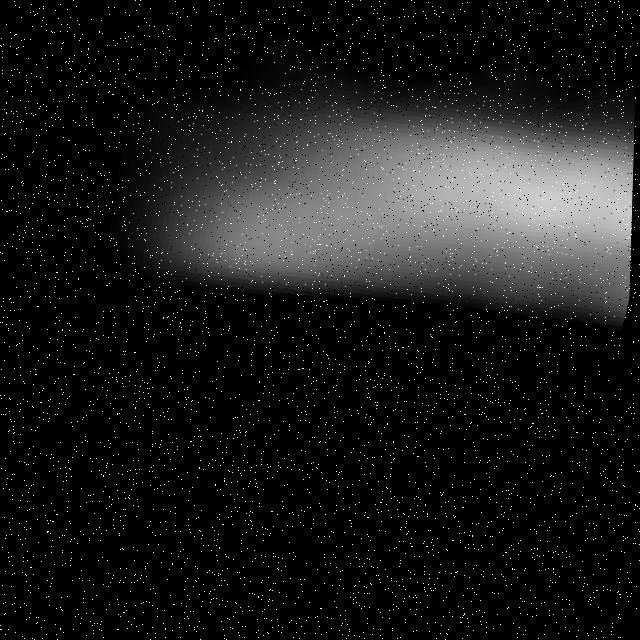person: (71, 7, 640, 451)
